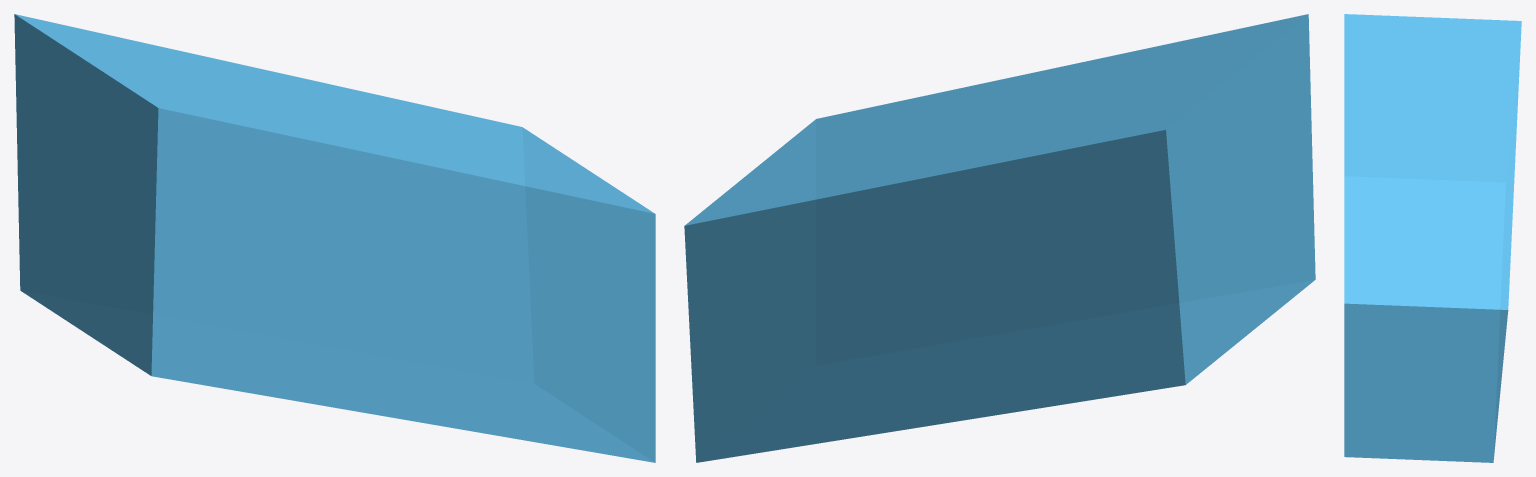
Rendered from Event_421556567_HErechit_6.fbx.
3 renders of one model, left to right at view 1: azimuth 30°, elevation 25°; view 2: azimuth 150°, elevation 25°; view 3: azimuth 270°, elevation 25°, orthographic. The views are drawn at different scales.
Parts seen in each view (by area): view 1: Model; view 2: Model; view 3: Model.
Boxes of the visible parts, left/top/right/bottom form: Model: left=14, top=14, right=655, bottom=462; Model: left=684, top=14, right=1315, bottom=462; Model: left=1344, top=14, right=1521, bottom=462.
Bounding box in the file's own units: 0.8467 × 0.7798 × 0.419.
